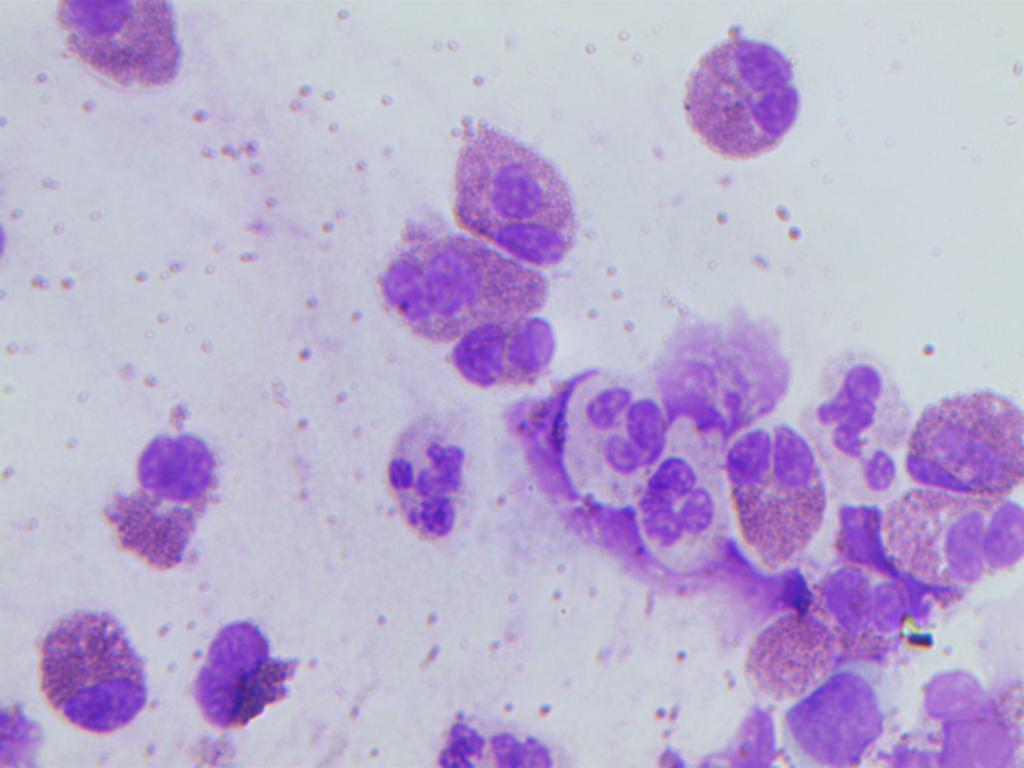artifact: (913, 666, 1024, 768), (782, 669, 883, 767)
eosinophil: (447, 98, 608, 270), (92, 415, 230, 576), (676, 13, 814, 174), (375, 216, 547, 330), (32, 0, 212, 102), (880, 482, 1023, 600), (189, 600, 301, 745), (32, 602, 144, 747), (727, 417, 827, 562), (433, 304, 582, 397), (902, 379, 1021, 488), (737, 606, 843, 718), (818, 558, 919, 664)
neutrophil: (803, 344, 913, 508), (373, 395, 485, 540), (642, 416, 739, 580), (560, 380, 664, 508), (425, 704, 582, 768)
